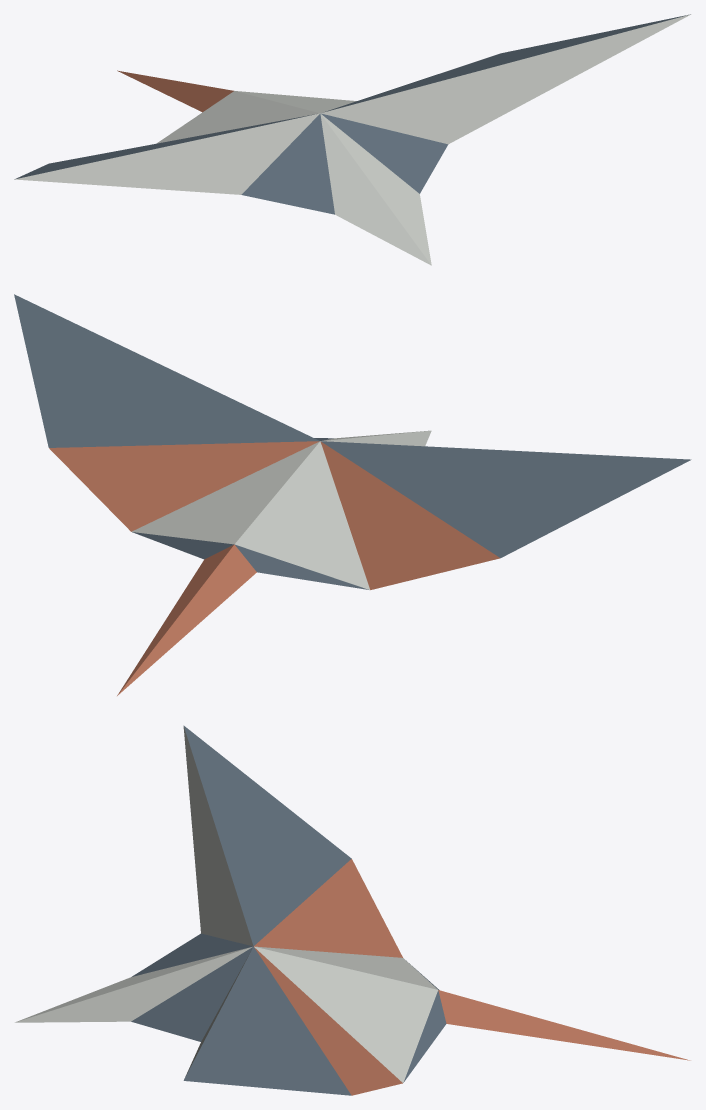
Rendered from paper_ray.glb.
3 views of the same model, one above another, from view 1: azimuth 30°, elevation 25°; view 2: azimuth 150°, elevation 25°; view 3: azimuth 270°, elevation 25° (orthographic). The views are drawn at different scales.
Parts seen in each view (by area): view 1: paper_ray; view 2: paper_ray; view 3: paper_ray.
Boxes of the visible parts, x1=… form: paper_ray: x1=14, y1=14, x2=691, y2=265; paper_ray: x1=14, y1=294, x2=691, y2=695; paper_ray: x1=15, y1=725, x2=690, y2=1095.
Bounding box in the file's own units: 7.2 × 1.49 × 5.8.
